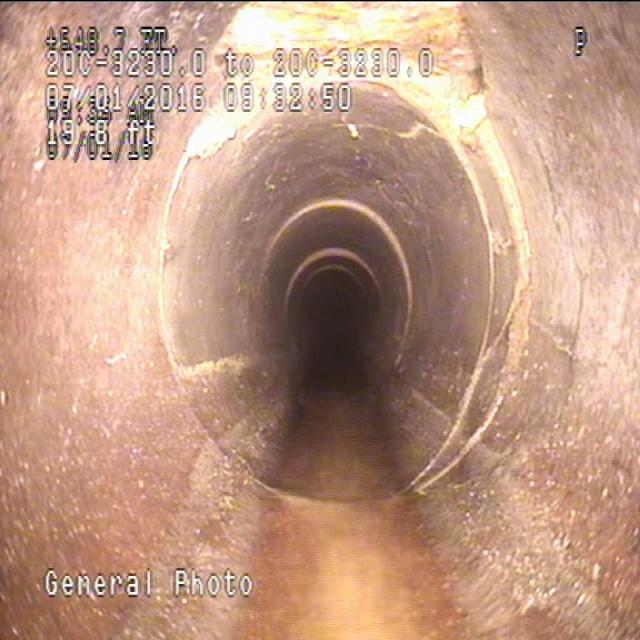Fracture: (430, 155, 598, 486)
